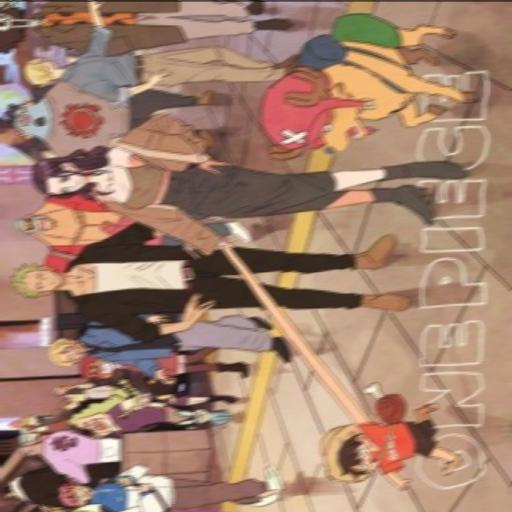NicoRobin: (33, 144, 116, 210)
Zoro: (9, 247, 76, 309)
sanji: (20, 44, 267, 102)
